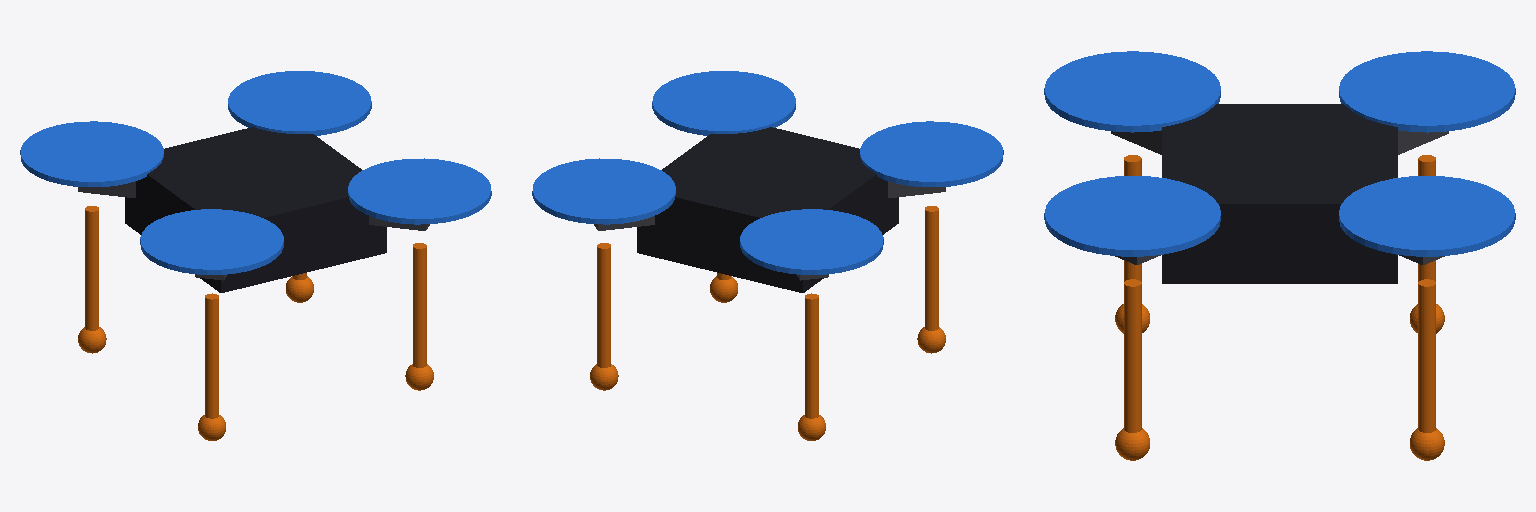
robot.urdf — lmf2_legs:
<?xml version="1.0"?>
<!-- v6 LMF2 with landing legs (proposal). Mass and inertia unchanged from V5 lmf2.urdf.
     Body 0.25 x 0.25 x 0.06 m; motors at (+-0.1, +-0.1); 4 legs straight down under the
     motors; feet 0.14 m below the body centre. -->
<robot name="lmf2_legs">
  <material name="body"><color rgba="0.15 0.15 0.18 1"/></material>
  <material name="arm"><color rgba="0.3 0.3 0.33 1"/></material>
  <material name="prop"><color rgba="0.2 0.5 0.9 0.6"/></material>
  <material name="leg"><color rgba="0.85 0.45 0.1 1"/></material>
  <link name="base_link">
    <inertial><origin xyz="0 0 0"/><mass value="1.24"/>
      <inertia ixx="0.0134" ixy="0" ixz="0" iyy="0.0144" iyz="0" izz="0.0138"/></inertial>
    <visual><geometry><box size="0.16 0.16 0.06"/></geometry><material name="body"/></visual>
    <visual><origin xyz="0 0 0.01" rpy="0 0 0.7854"/><geometry><box size="0.30 0.025 0.02"/></geometry><material name="arm"/></visual>
    <visual><origin xyz="0 0 0.01" rpy="0 0 -0.7854"/><geometry><box size="0.30 0.025 0.02"/></geometry><material name="arm"/></visual>
    <visual><origin xyz="0.1 0.1 0.03"/><geometry><cylinder radius="0.06" length="0.005"/></geometry><material name="prop"/></visual>
    <visual><origin xyz="0.1 -0.1 0.03"/><geometry><cylinder radius="0.06" length="0.005"/></geometry><material name="prop"/></visual>
    <visual><origin xyz="-0.1 0.1 0.03"/><geometry><cylinder radius="0.06" length="0.005"/></geometry><material name="prop"/></visual>
    <visual><origin xyz="-0.1 -0.1 0.03"/><geometry><cylinder radius="0.06" length="0.005"/></geometry><material name="prop"/></visual>
    <visual><origin xyz="0.1 0.1 -0.08"/><geometry><cylinder radius="0.006" length="0.12"/></geometry><material name="leg"/></visual>
    <visual><origin xyz="0.1 -0.1 -0.08"/><geometry><cylinder radius="0.006" length="0.12"/></geometry><material name="leg"/></visual>
    <visual><origin xyz="-0.1 0.1 -0.08"/><geometry><cylinder radius="0.006" length="0.12"/></geometry><material name="leg"/></visual>
    <visual><origin xyz="-0.1 -0.1 -0.08"/><geometry><cylinder radius="0.006" length="0.12"/></geometry><material name="leg"/></visual>
    <visual><origin xyz="0.1 0.1 -0.14"/><geometry><sphere radius="0.012"/></geometry><material name="leg"/></visual>
    <visual><origin xyz="0.1 -0.1 -0.14"/><geometry><sphere radius="0.012"/></geometry><material name="leg"/></visual>
    <visual><origin xyz="-0.1 0.1 -0.14"/><geometry><sphere radius="0.012"/></geometry><material name="leg"/></visual>
    <visual><origin xyz="-0.1 -0.1 -0.14"/><geometry><sphere radius="0.012"/></geometry><material name="leg"/></visual>
    <collision><geometry><box size="0.16 0.16 0.06"/></geometry></collision>
    <collision><origin xyz="0 0 0.01" rpy="0 0 0.7854"/><geometry><box size="0.30 0.025 0.02"/></geometry></collision>
    <collision><origin xyz="0 0 0.01" rpy="0 0 -0.7854"/><geometry><box size="0.30 0.025 0.02"/></geometry></collision>
    <collision><origin xyz="0.1 0.1 -0.08"/><geometry><cylinder radius="0.006" length="0.12"/></geometry></collision>
    <collision><origin xyz="0.1 -0.1 -0.08"/><geometry><cylinder radius="0.006" length="0.12"/></geometry></collision>
    <collision><origin xyz="-0.1 0.1 -0.08"/><geometry><cylinder radius="0.006" length="0.12"/></geometry></collision>
    <collision><origin xyz="-0.1 -0.1 -0.08"/><geometry><cylinder radius="0.006" length="0.12"/></geometry></collision>
    <collision><origin xyz="0.1 0.1 -0.14"/><geometry><sphere radius="0.012"/></geometry></collision>
    <collision><origin xyz="0.1 -0.1 -0.14"/><geometry><sphere radius="0.012"/></geometry></collision>
    <collision><origin xyz="-0.1 0.1 -0.14"/><geometry><sphere radius="0.012"/></geometry></collision>
    <collision><origin xyz="-0.1 -0.1 -0.14"/><geometry><sphere radius="0.012"/></geometry></collision>
  </link>
</robot>

--- Render facts (derived) ---
Views: 3 orthographic renders of the robot side by side, from view 1: azimuth 30°, elevation 25°; view 2: azimuth 150°, elevation 25°; view 3: azimuth 270°, elevation 25°.
Robot: lmf2_legs — 1 links, 0 joints (none); root link base_link; default pose: every joint at zero.
Visible links, largest first — view 1: base_link; view 2: base_link; view 3: base_link.
Boxes of the visible links, x1,y1,x2,y2 form: base_link: [20, 71, 491, 440]; base_link: [532, 71, 1003, 440]; base_link: [1044, 51, 1515, 460].
Size in the robot's own frame: 0.32 by 0.32 by 0.1845 metres.
Geometry: primitives only (box / cylinder / sphere), no mesh files.
